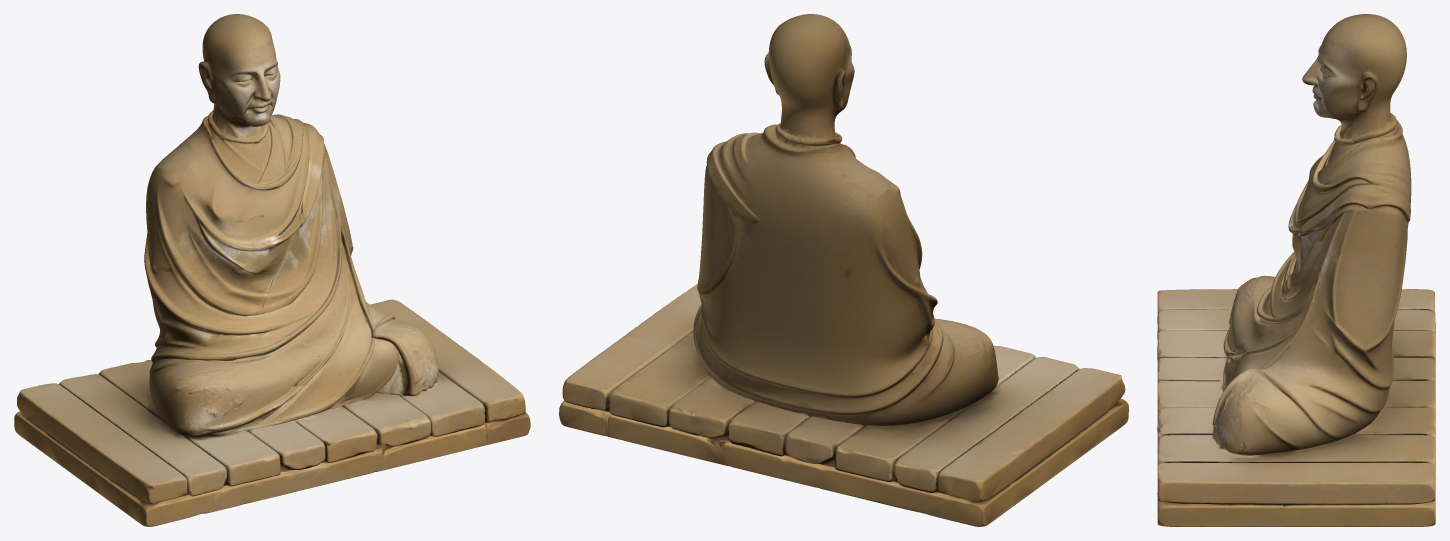
The picture shows the model from 3 angles, left to right: view 1: azimuth 30°, elevation 25°; view 2: azimuth 150°, elevation 25°; view 3: azimuth 270°, elevation 25°; orthographic projection. The views are drawn at different scales.
Parts seen in each view (by area): view 1: node_0; view 2: node_0; view 3: node_0.
Part boxes in pixels (x1=…): node_0: x1=14, y1=14, x2=530, y2=526; node_0: x1=559, y1=14, x2=1128, y2=526; node_0: x1=1157, y1=14, x2=1435, y2=526.
Size of the model in its own units: 0.7985 by 0.7746 by 0.476.
1 material, 1 textured.
